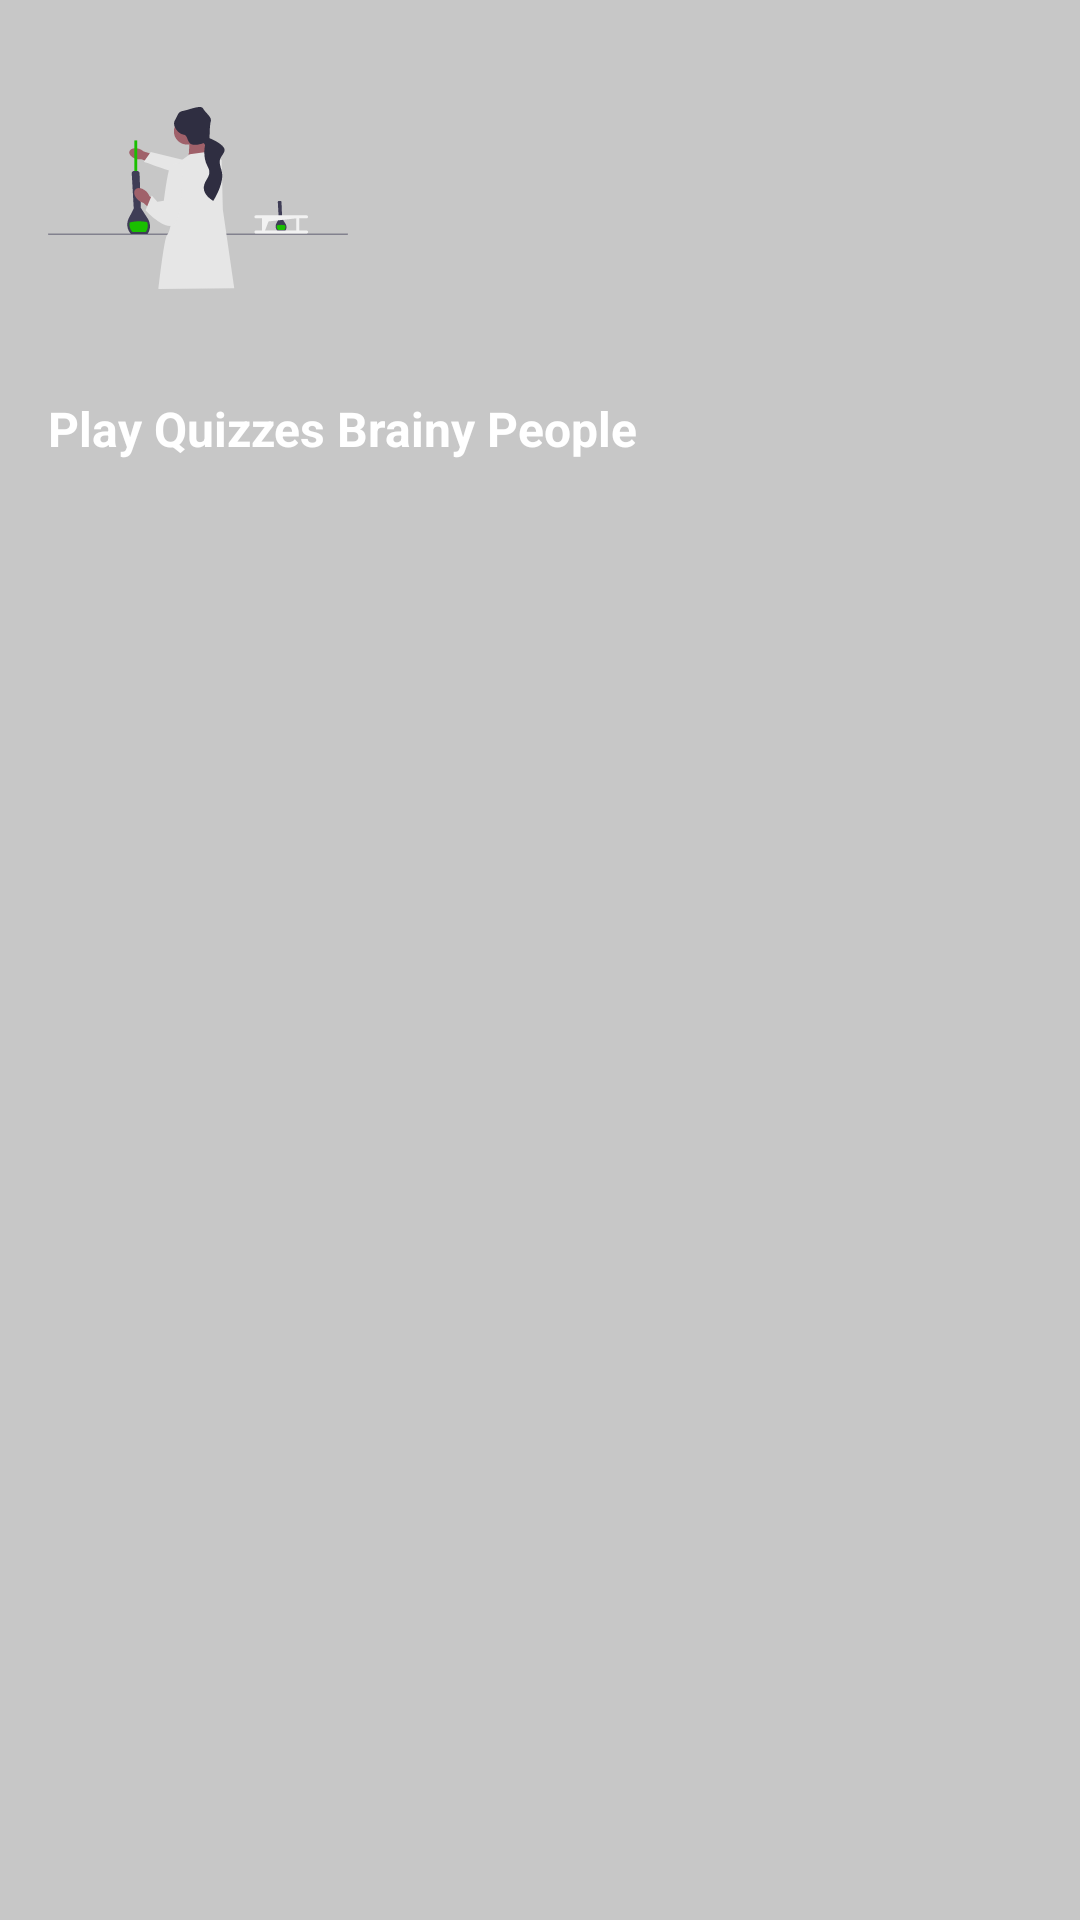

Named icons in this screenshot (1080px×1920px) and their centers, [x,y]:
science: [198,198]
